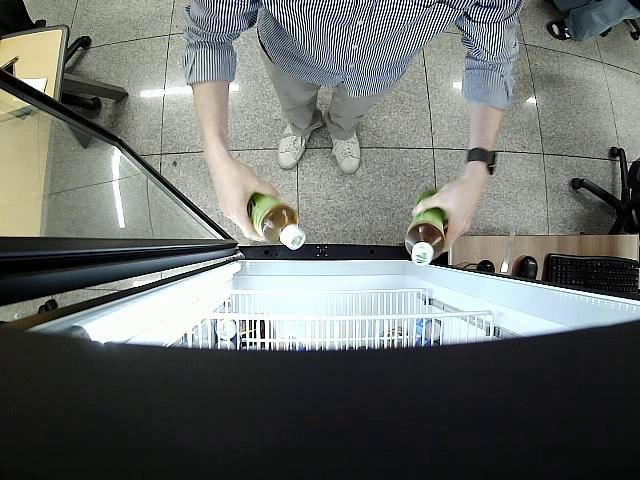19_17cha: (248, 192, 306, 250), (405, 188, 446, 265)
